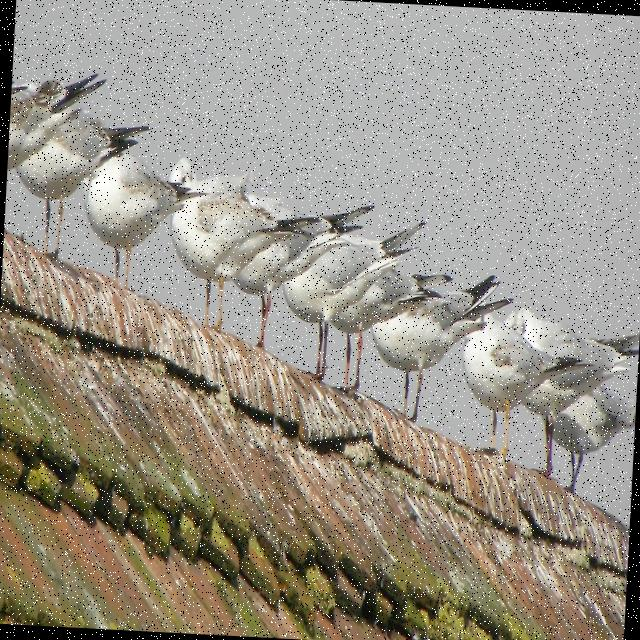bird: (159, 162, 376, 358), (455, 304, 639, 498), (274, 204, 432, 396), (3, 72, 153, 264), (364, 267, 516, 427), (75, 144, 211, 295)
